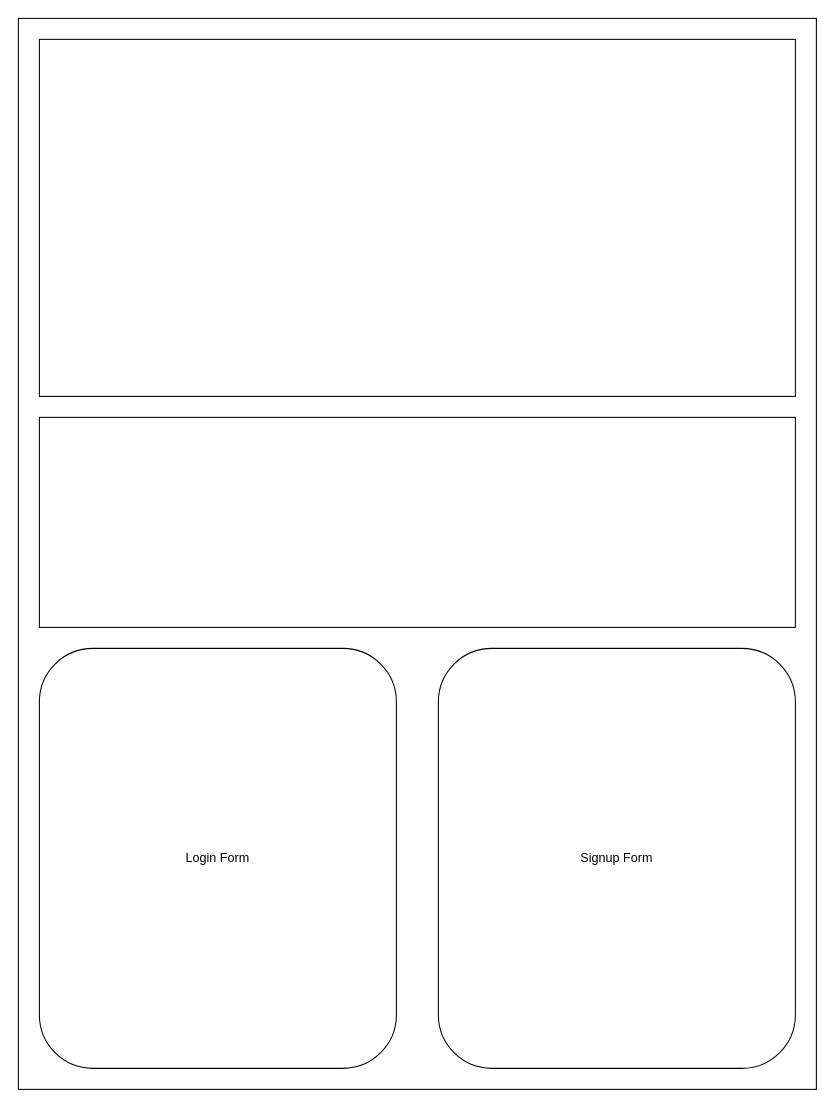
The diagram is 835 pixels wide and 1108 high, and some of its shapes have lost their labels. The shapes that lost their labels are listed below. From the top down, each one's centre as x and y in pixels, then its label:
At pixel 416 217: "TITLE AND PREAMBLE".
At pixel 416 521: "Tool description".
